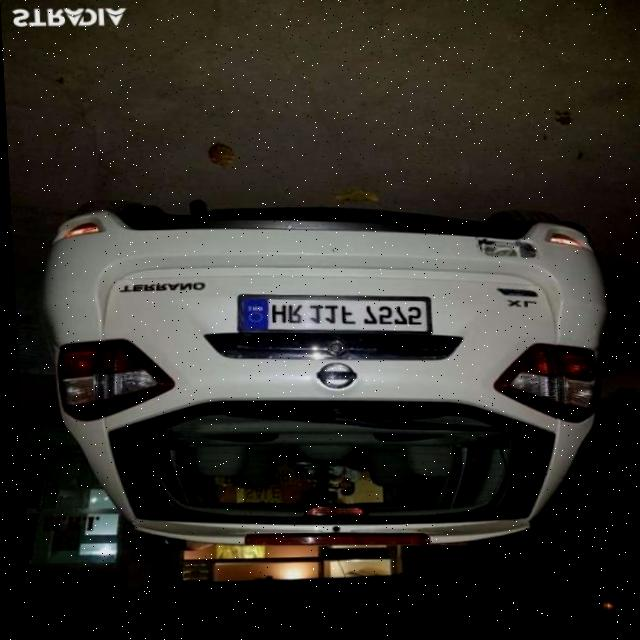plate: (231, 295, 430, 338)
